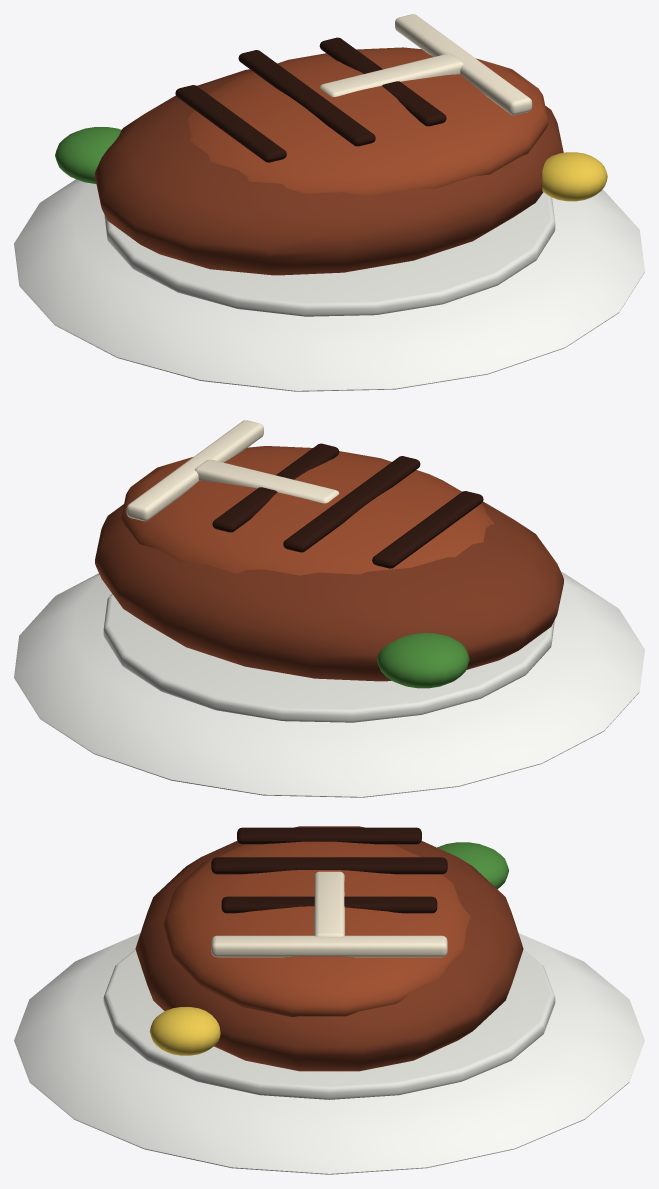
File: steak.glb
The picture shows the model from 3 angles, top to bottom: view 1: azimuth 30°, elevation 25°; view 2: azimuth 150°, elevation 25°; view 3: azimuth 270°, elevation 25°; orthographic projection.
Visible parts, largest first — view 1: steak; view 2: steak; view 3: steak.
Boxes of the visible parts, left/top/right/bottom form: steak: left=14, top=14, right=644, bottom=391; steak: left=14, top=420, right=644, bottom=797; steak: left=14, top=826, right=644, bottom=1174.
Size of the model in its own units: 1.23 by 0.365 by 1.23.
